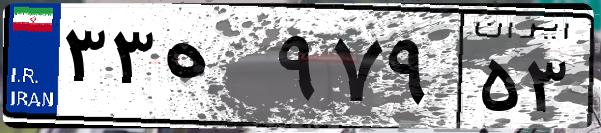3: (57, 26, 110, 100), (525, 38, 570, 115), (110, 28, 158, 98)
5: (475, 38, 525, 113)
7: (330, 28, 385, 110)
9: (270, 28, 330, 110), (385, 28, 445, 110)
ه: (158, 20, 270, 120)
